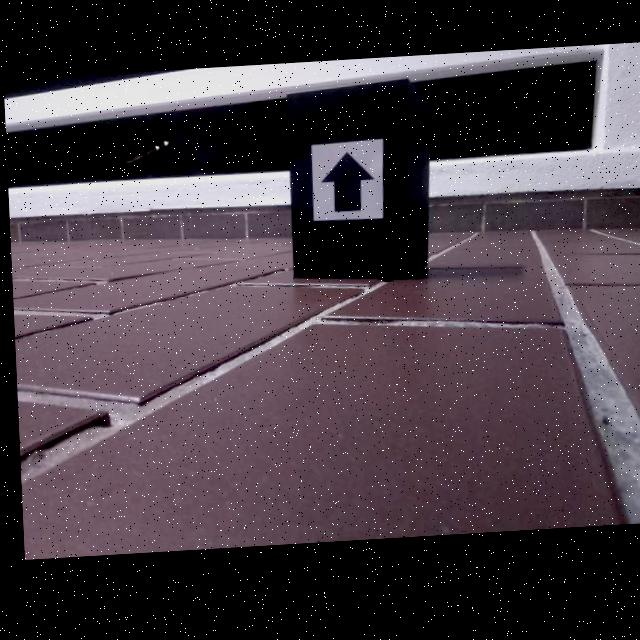UP: (319, 156, 374, 218)
